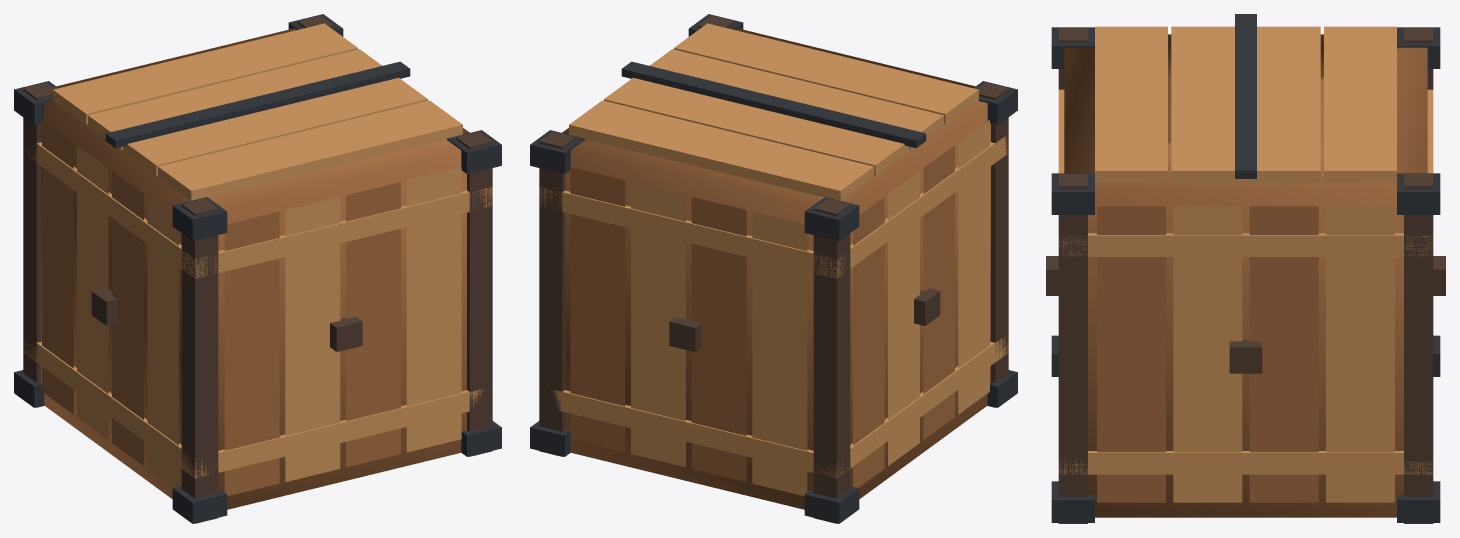
Rendered from adventure-crate.glb.
3 views of the same model, side by side, from view 1: azimuth 30°, elevation 25°; view 2: azimuth 150°, elevation 25°; view 3: azimuth 270°, elevation 25° (orthographic). The views are drawn at different scales.
Parts seen in each view (by area): view 1: Merged_crate-timber-light, Merged_crate-timber, Merged_prop-accent, Merged_city-metal-dark; view 2: Merged_crate-timber-light, Merged_crate-timber, Merged_prop-accent, Merged_city-metal-dark; view 3: Merged_crate-timber-light, Merged_crate-timber, Merged_prop-accent, Merged_city-metal-dark.
Part boxes in pixels (x1,y1,x2,y2): Merged_crate-timber-light: (23,23,492,487); Merged_crate-timber: (41,28,469,509); Merged_prop-accent: (23,15,492,523); Merged_city-metal-dark: (14,14,501,523); Merged_crate-timber-light: (539,23,1008,496); Merged_crate-timber: (562,28,990,509); Merged_prop-accent: (539,15,1008,523); Merged_city-metal-dark: (530,14,1017,523); Merged_crate-timber-light: (1058,26,1433,502); Merged_crate-timber: (1064,34,1427,517); Merged_prop-accent: (1046,28,1445,523); Merged_city-metal-dark: (1051,14,1440,522).
Size of what is drawn, in the model's own units: 2.2 by 2.14 by 2.2.
